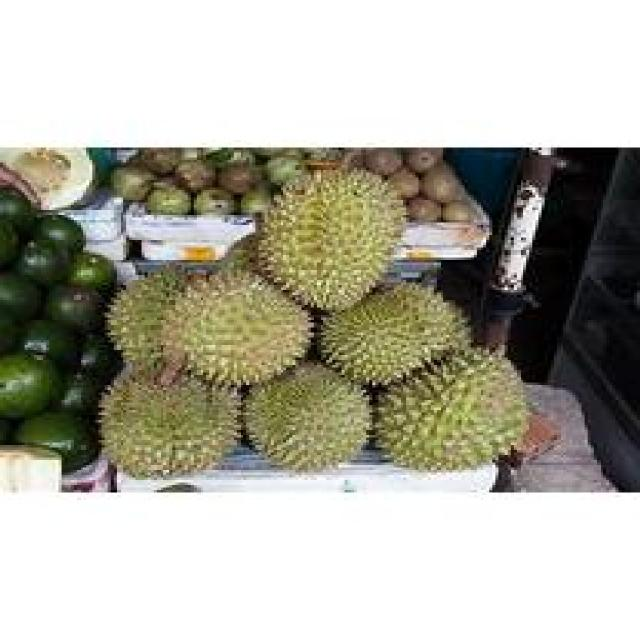fruit: (80, 240, 329, 498), (332, 310, 560, 490), (237, 147, 434, 335)
